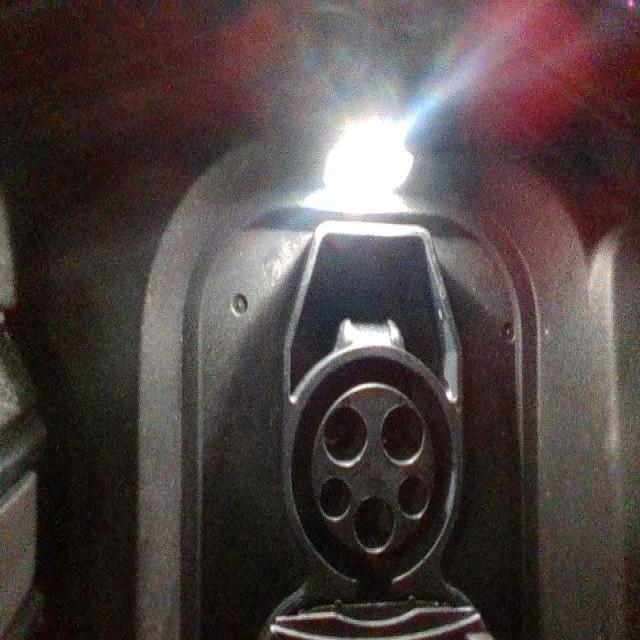Type 1: (284, 362, 470, 579)
